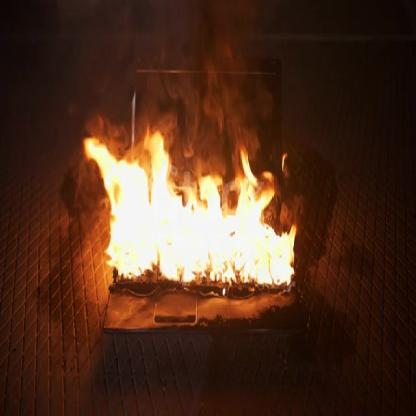fire: (80, 134, 295, 294)
smoke: (44, 0, 282, 187)
